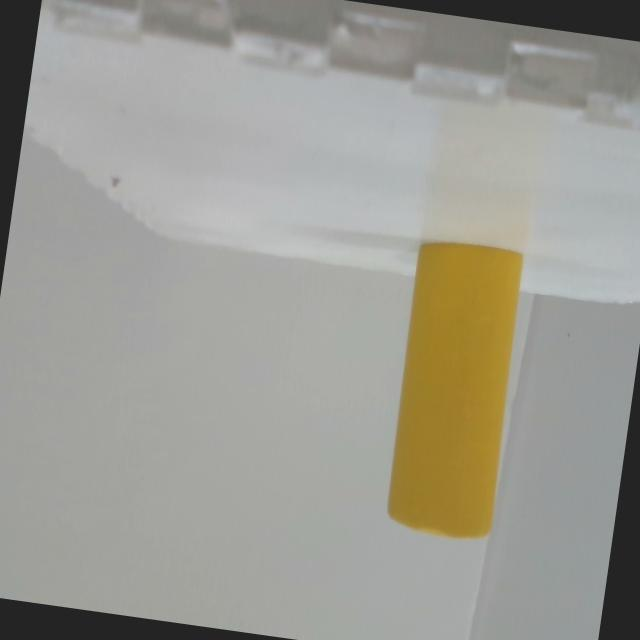yellow_cylinder: (382, 236, 530, 544)
